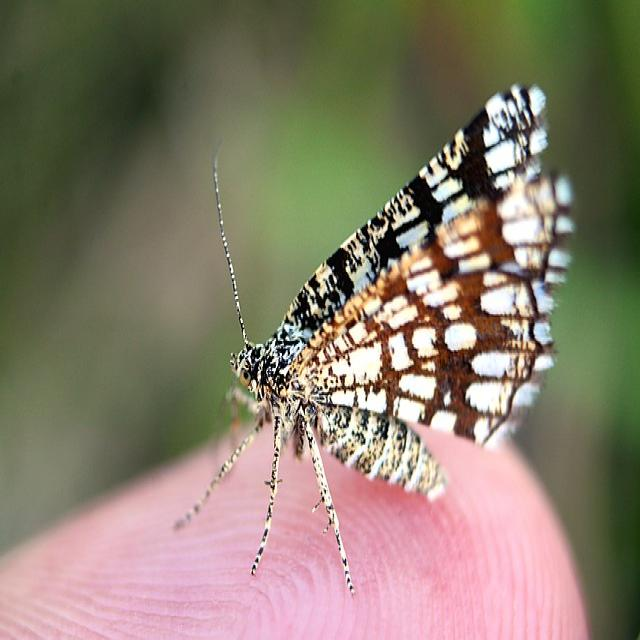butterfly: (175, 84, 575, 529)
